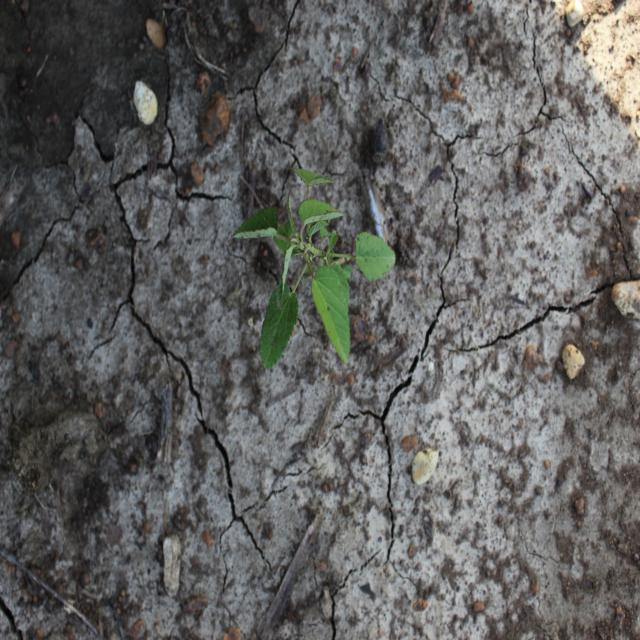PricklySida: (230, 165, 397, 372)
